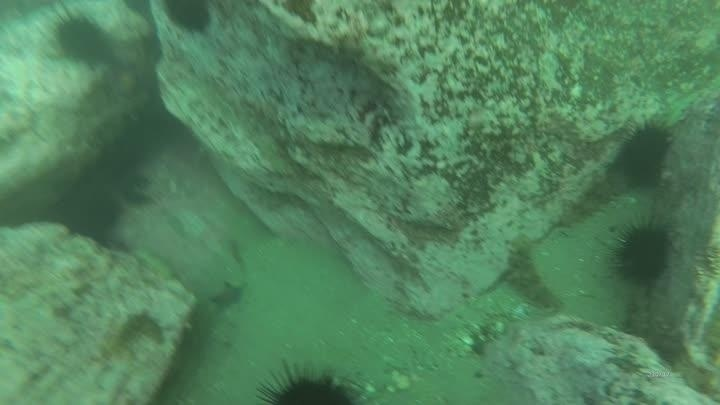echinus: (252, 357, 367, 405), (606, 217, 677, 291), (52, 179, 126, 246), (614, 117, 677, 191), (49, 10, 115, 69), (161, 1, 215, 36)
holothurian: (504, 235, 565, 313), (123, 308, 167, 346)
starfish: (208, 279, 249, 315)
